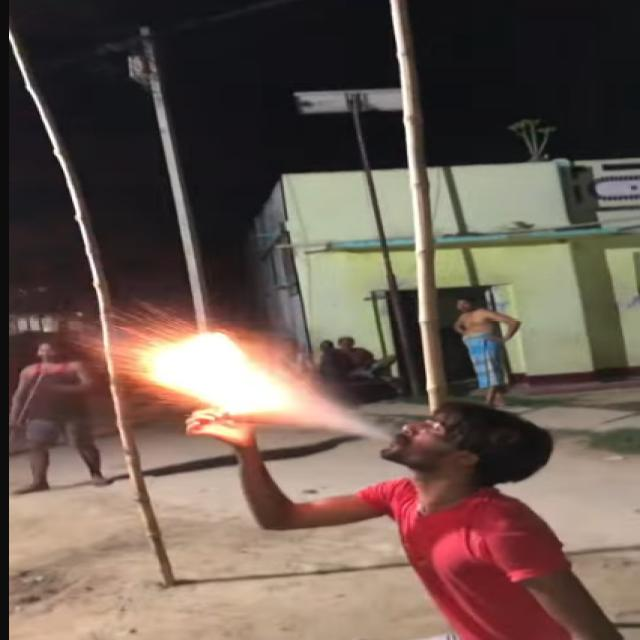fire: (141, 331, 296, 413)
